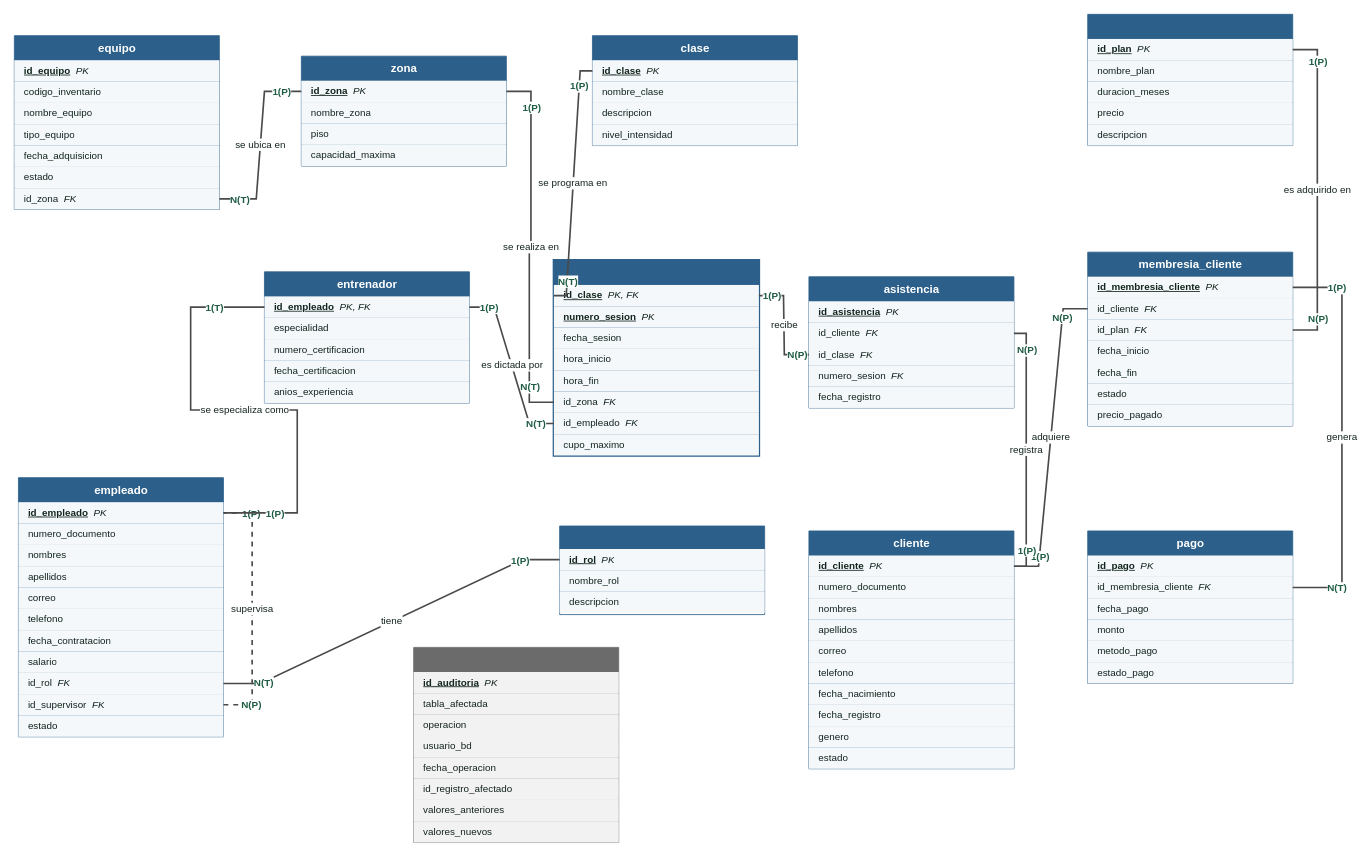
This 1371x857 diagram has some shape labels left out. The box of each missing label's shape, as (x1, y1, x2, y2) in pixels:
auditoria (tabla tecnica): (413, 647, 619, 843)
horario_clase (entidad debil): (552, 259, 760, 456)
membresia_plan: (1087, 14, 1293, 146)
rol_empleado: (559, 525, 765, 615)
